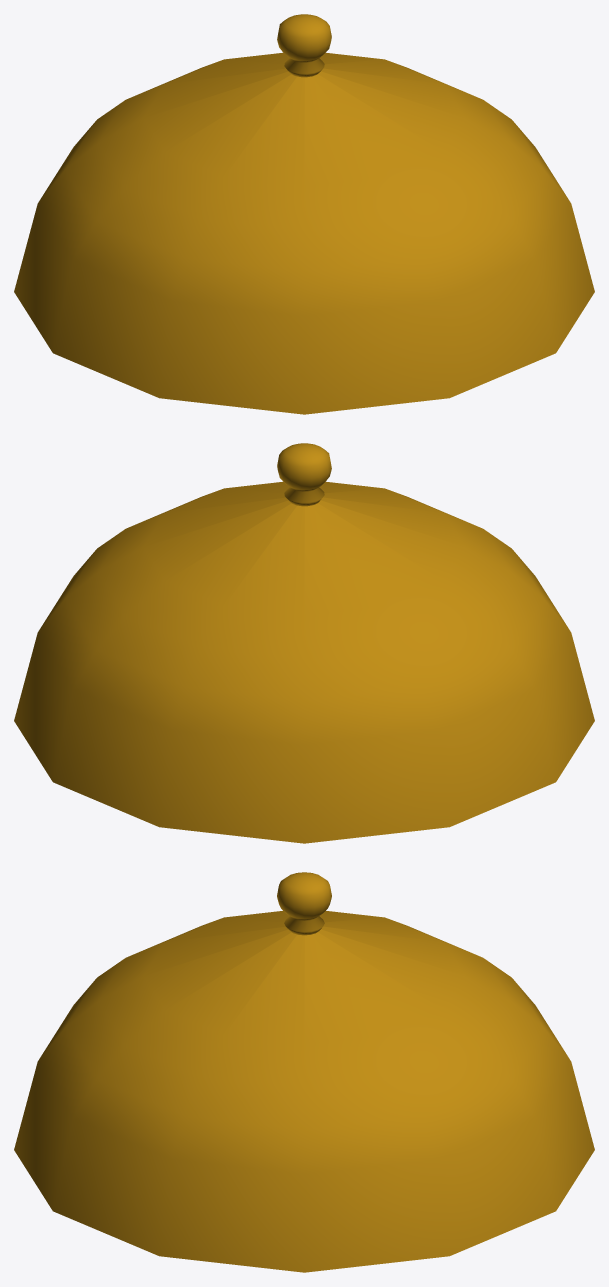
The model's file is SM_dome_06.fbx.
The picture shows the model from 3 angles, top to bottom: view 1: azimuth 30°, elevation 25°; view 2: azimuth 150°, elevation 25°; view 3: azimuth 270°, elevation 25°; orthographic projection.
Parts seen in each view (by area): view 1: Cylinder424411; view 2: Cylinder424411; view 3: Cylinder424411.
Boxes of the visible parts, x1=… form: Cylinder424411: x1=14, y1=14, x2=594, y2=414; Cylinder424411: x1=14, y1=443, x2=594, y2=843; Cylinder424411: x1=14, y1=872, x2=594, y2=1272.
Bounding box in the file's own units: 106 × 54.9 × 106.
